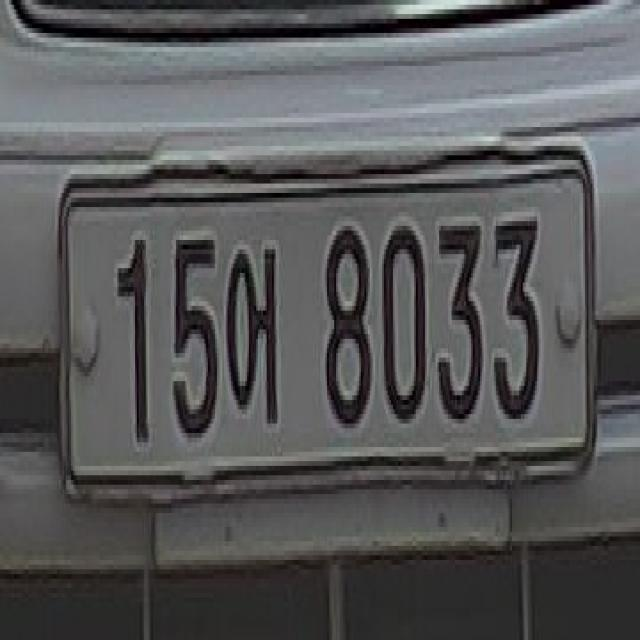0: (379, 202, 430, 438)
1: (108, 230, 162, 457)
3: (430, 198, 487, 438), (489, 198, 546, 438)
5: (164, 226, 222, 456)
8: (322, 202, 378, 442)
eo: (222, 221, 286, 447)
license_plate: (53, 123, 603, 536)
